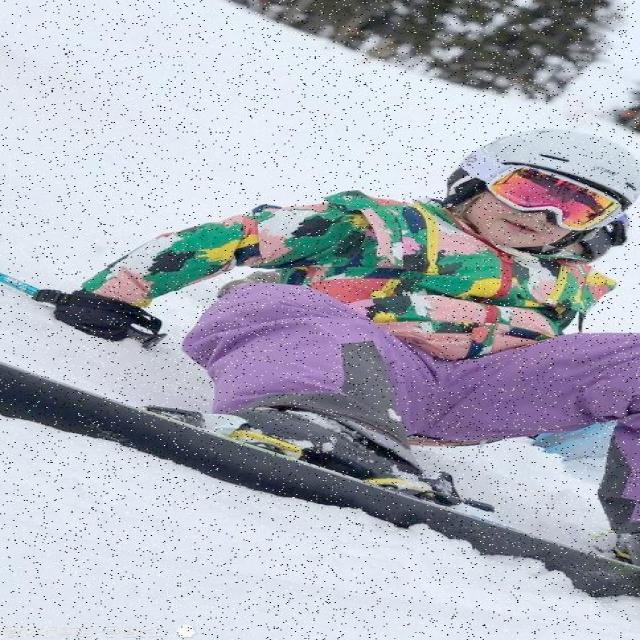fall: (127, 128, 639, 522)
